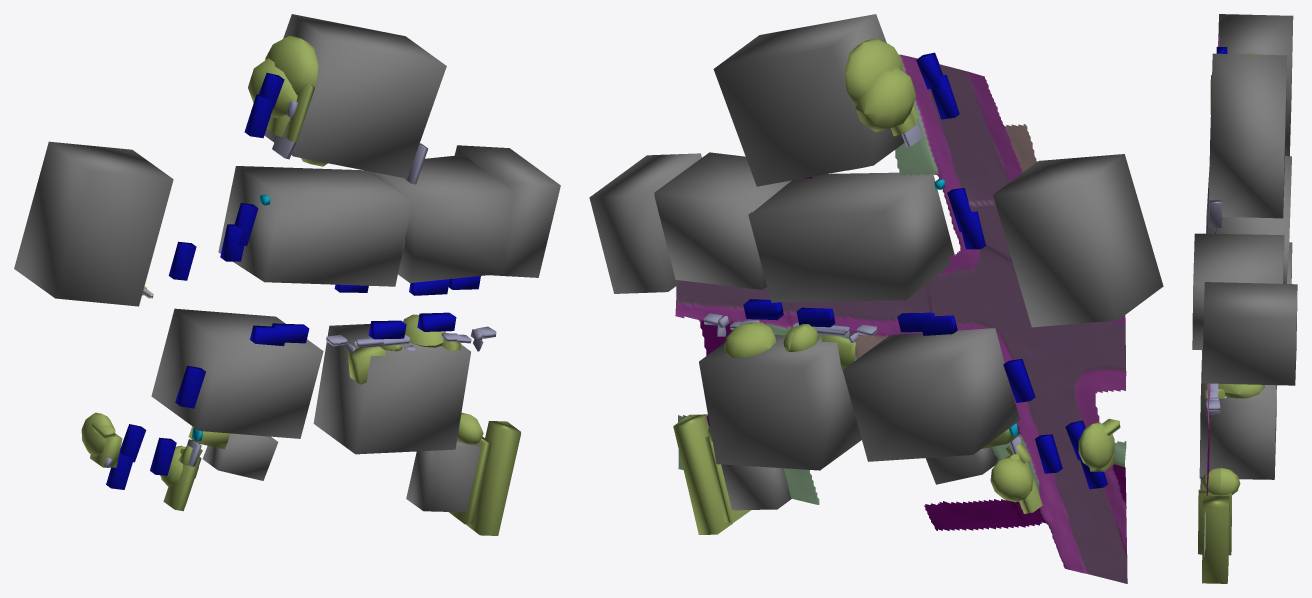
3 renders of one model, left to right at view 1: azimuth 30°, elevation 25°; view 2: azimuth 150°, elevation 25°; view 3: azimuth 270°, elevation 25°, orthographic. The views are drawn at different scales.
Size of the model in its own units: 73.79 by 74.36 by 15.35.
